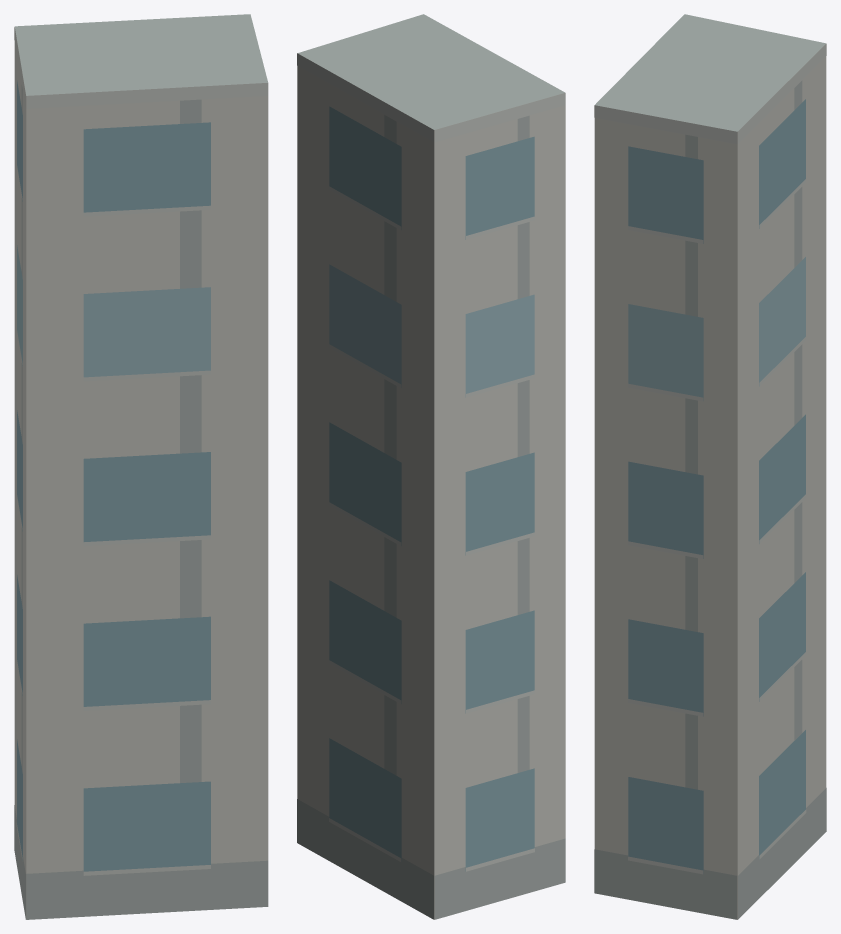
The model's file is survey-upis-32739677.glb.
The picture shows the model from 3 angles, left to right: view 1: azimuth 30°, elevation 25°; view 2: azimuth 150°, elevation 25°; view 3: azimuth 270°, elevation 25°; orthographic projection. The views are drawn at different scales.
Visible parts, largest first — view 1: survey-upis-32739677.tmp; view 2: survey-upis-32739677.tmp; view 3: survey-upis-32739677.tmp.
Boxes of the visible parts, x1,y1,x2,y2 form: survey-upis-32739677.tmp: (14, 14, 268, 919); survey-upis-32739677.tmp: (297, 14, 565, 919); survey-upis-32739677.tmp: (594, 14, 826, 919).
Size of the model in its own units: 4.89 by 15.25 by 4.08.
